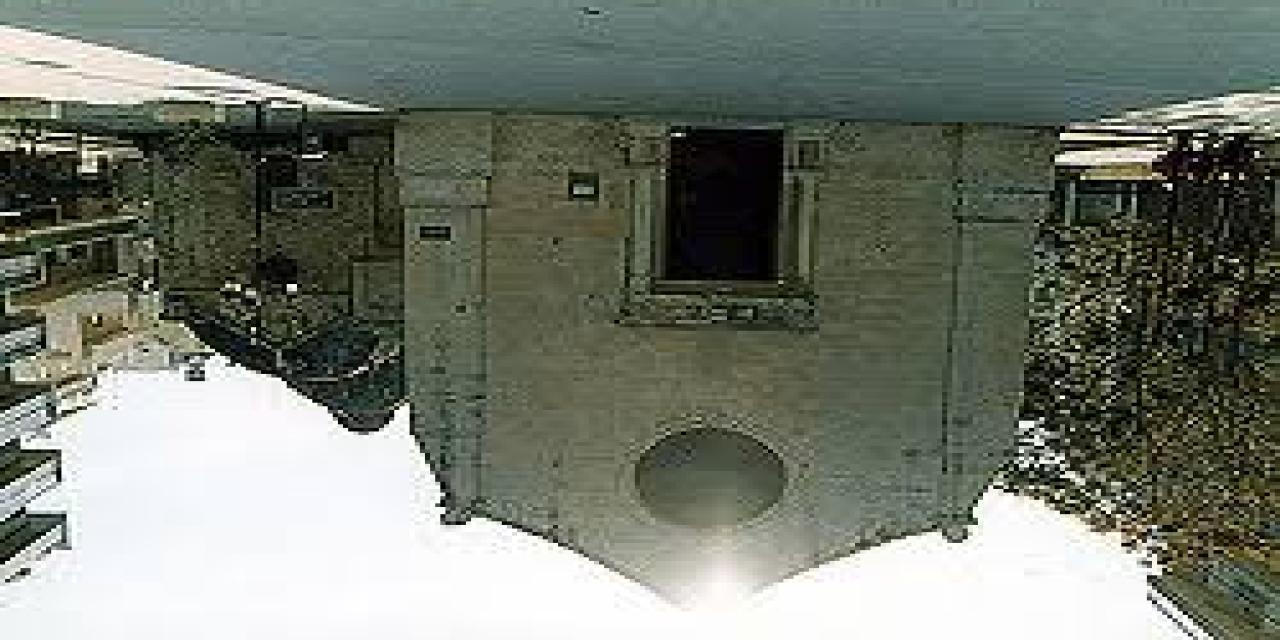Agia Aikaterini: (146, 120, 1052, 608)
